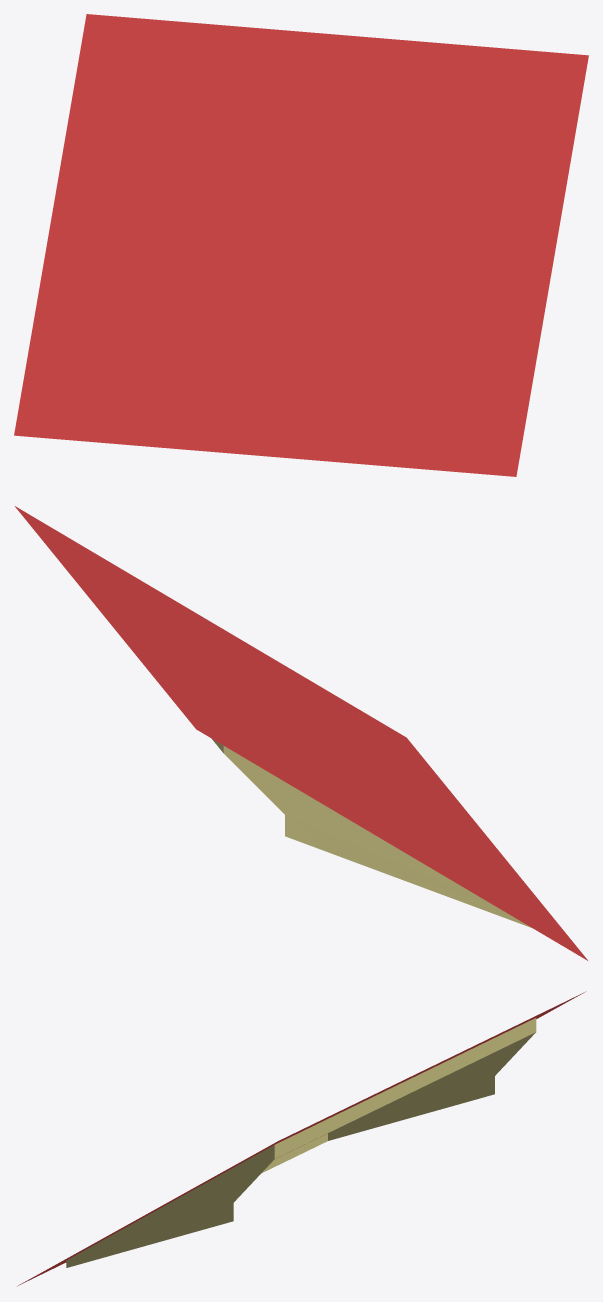
3 renders of one model, top to bottom at view 1: azimuth 30°, elevation 25°; view 2: azimuth 150°, elevation 25°; view 3: azimuth 270°, elevation 25°, orthographic. The views are drawn at different scales.
Bounding box in the file's own units: 11.82 × 11.58 × 5.43.
